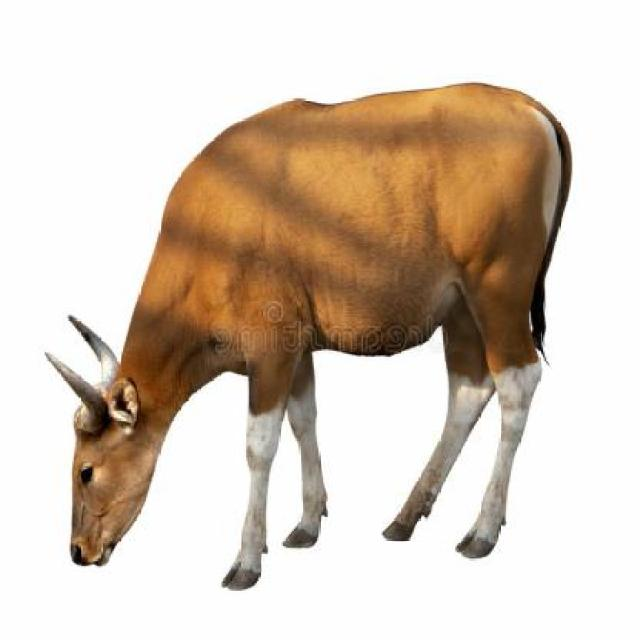Cow: (50, 79, 572, 596)
